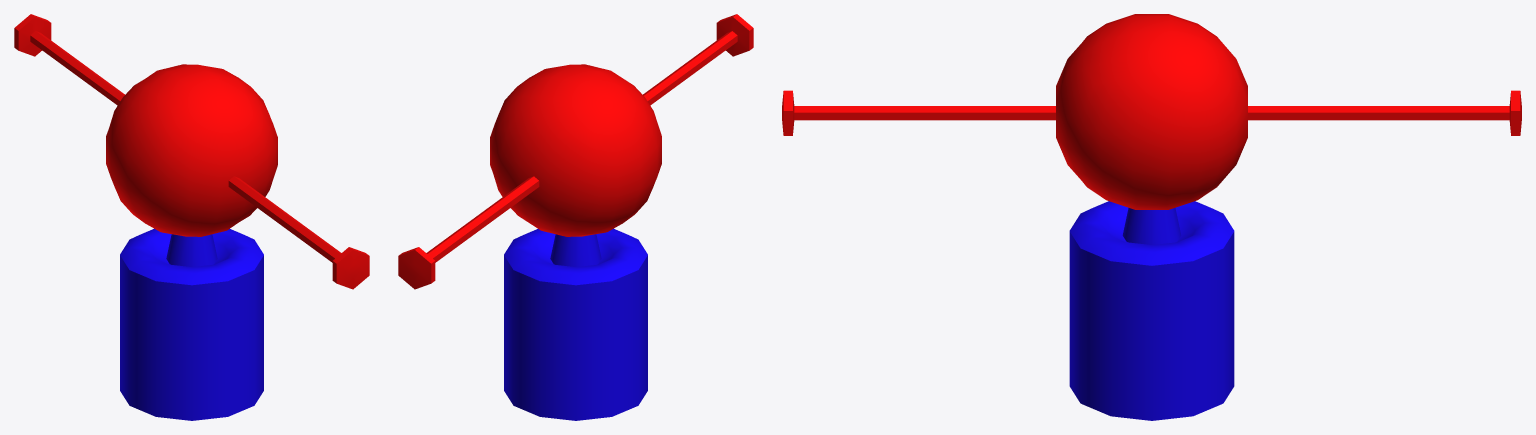
File: fbx_Building_Gatherer01.FBX
3 views of the same model, side by side, from view 1: azimuth 30°, elevation 25°; view 2: azimuth 150°, elevation 25°; view 3: azimuth 270°, elevation 25° (orthographic). The views are drawn at different scales.
Visible parts, largest first — view 1: mesh_Building_Gatherer01; view 2: mesh_Building_Gatherer01; view 3: mesh_Building_Gatherer01.
Part boxes in pixels (bbox=[...]): mesh_Building_Gatherer01: bbox=[14, 14, 369, 420]; mesh_Building_Gatherer01: bbox=[398, 14, 753, 420]; mesh_Building_Gatherer01: bbox=[782, 14, 1521, 420].
Size of the model in its own units: 1.98 by 4.12 by 7.64.
